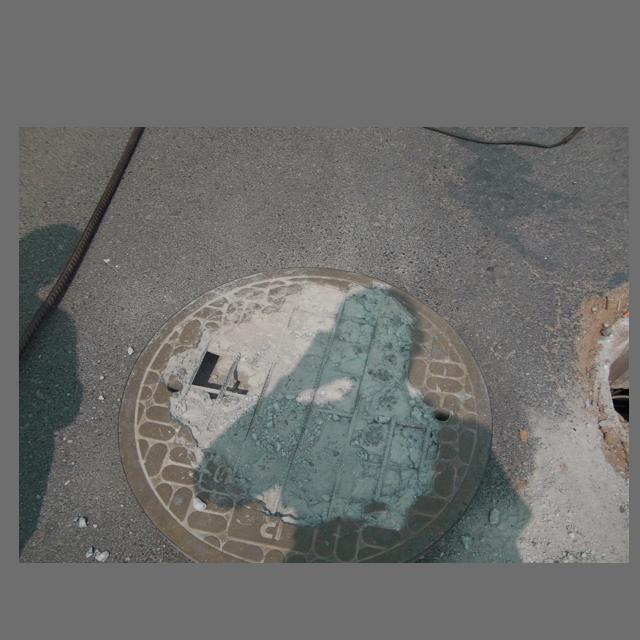broke: (116, 264, 495, 563)
